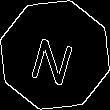N_N: (29, 25, 81, 85)
